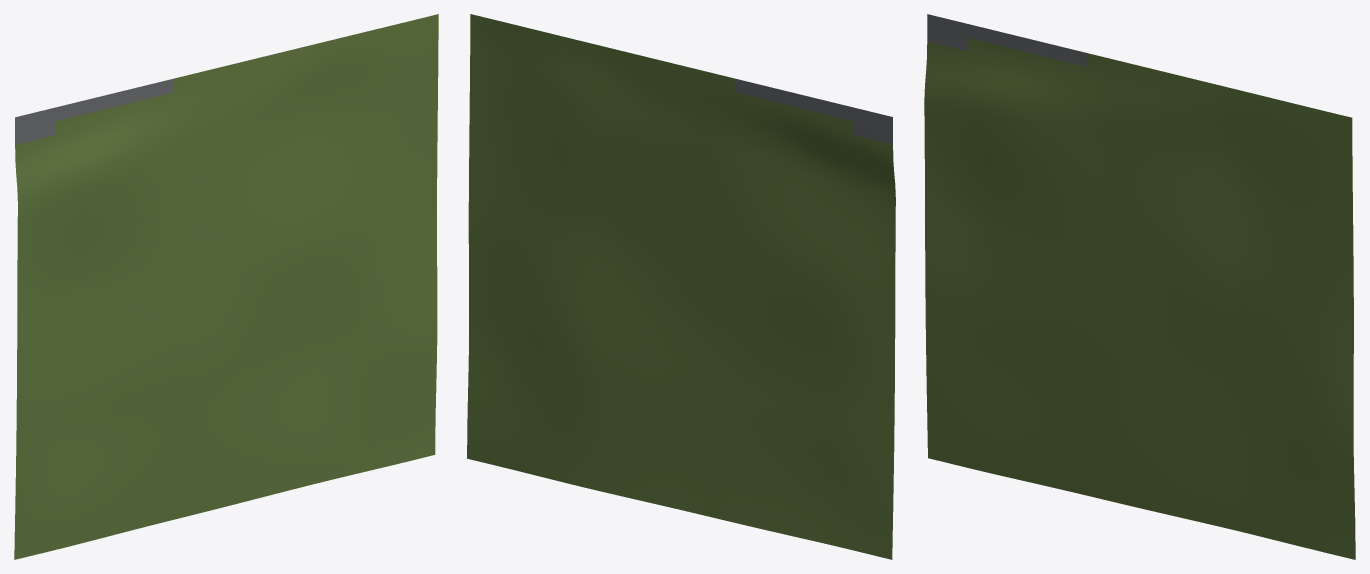
The model's file is island_terrain_22_09.obj.
3 renders of one model, left to right at view 1: azimuth 30°, elevation 25°; view 2: azimuth 150°, elevation 25°; view 3: azimuth 330°, elevation 25°, orthographic.
Parts seen in each view (by area): view 1: island_terrain_22_09; view 2: island_terrain_22_09; view 3: island_terrain_22_09.
Part boxes in pixels (x1,y1,x2,y2): island_terrain_22_09: (14, 14, 438, 559); island_terrain_22_09: (467, 14, 895, 559); island_terrain_22_09: (924, 14, 1355, 559).
Size of the model in its own units: 256 by 256 by 7.34.
